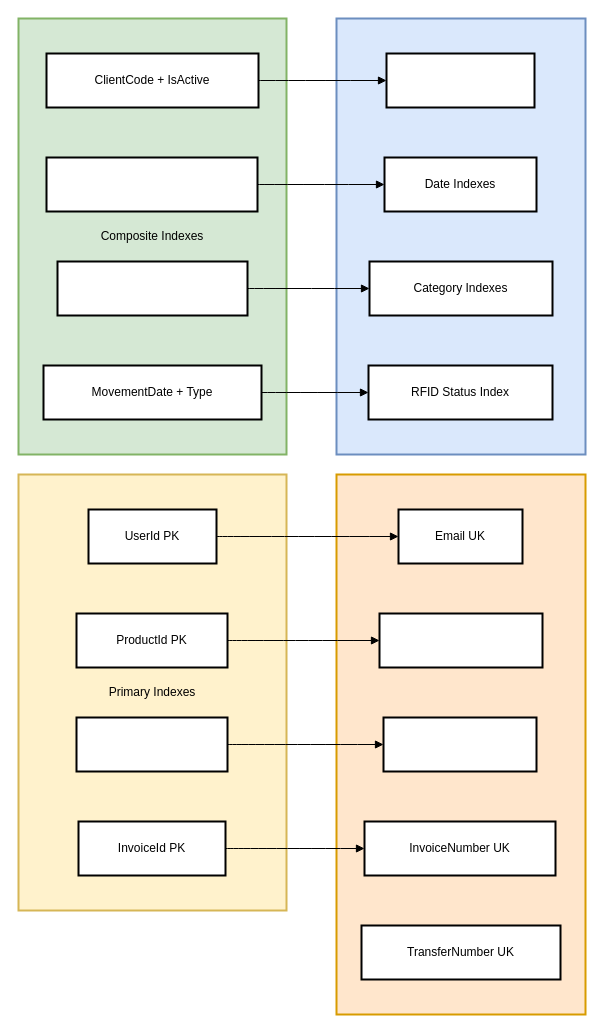
The diagram is 603 pixels wide and 1032 high, and some of its shapes have lost their labels. The shapes that lost their labels are listed below. From the top down, each one's box as (x1, y1, x2, y2) in pixels, then its label:
(385, 52, 535, 108): Status Index
(45, 156, 258, 212): BranchId + CounterId
(335, 17, 586, 455): Performance Indexes
(56, 260, 248, 316): ProductId + Status
(378, 612, 543, 668): ClientCode UK
(75, 716, 228, 772): RFIDCode PK
(382, 716, 537, 772): ItemCode UK
